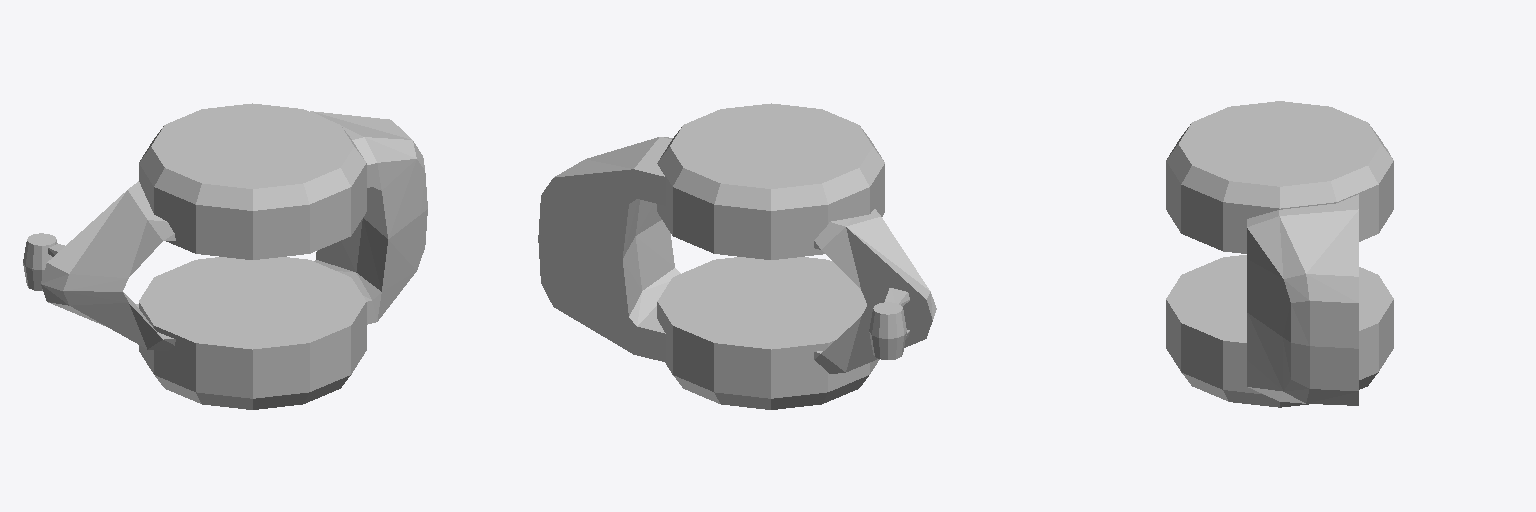
The model's file is Foot_Left.obj.
3 views of the same model, side by side, from view 1: azimuth 30°, elevation 25°; view 2: azimuth 150°, elevation 25°; view 3: azimuth 270°, elevation 25° (orthographic).
Parts seen in each view (by area): view 1: CasterBracket_Left; view 2: CasterBracket_Left; view 3: CasterBracket_Left.
Part boxes in pixels (x1,y1,x2,y2): CasterBracket_Left: (23,103,427,409); CasterBracket_Left: (538,103,936,409); CasterBracket_Left: (1166,101,1393,407).
Size of the model in its own units: 0.3251 by 0.1806 by 0.1688.